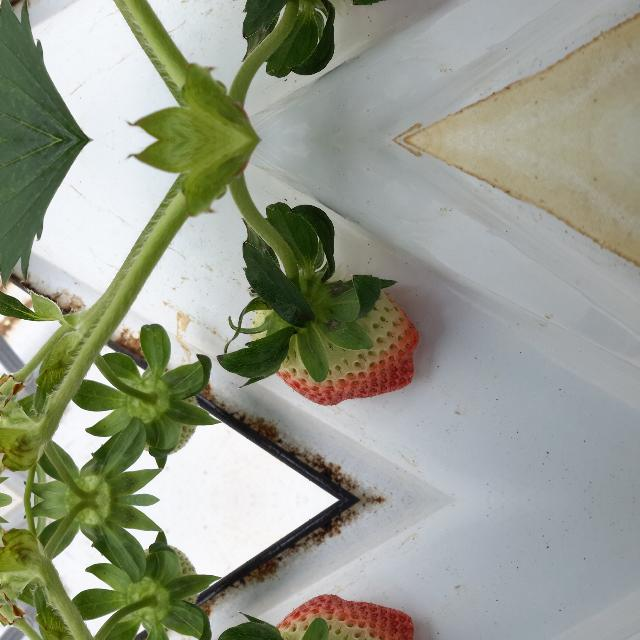Health_100: (250, 289, 420, 405), (250, 595, 419, 640)
